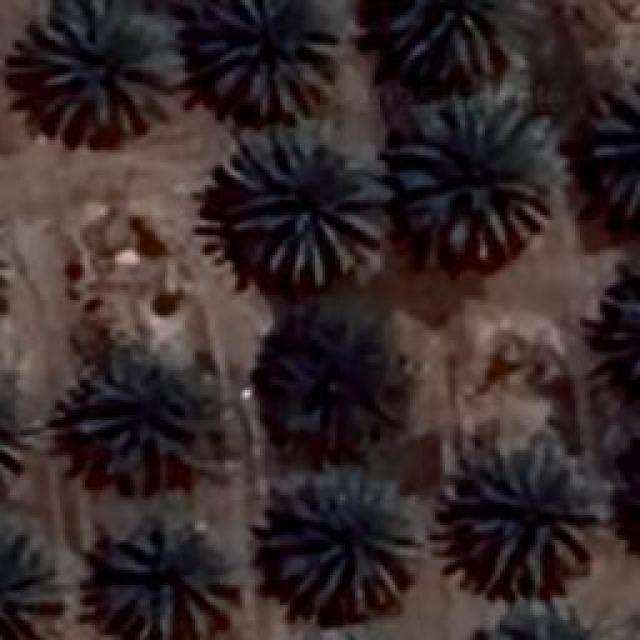PalmTree: (145, 140, 623, 323), (35, 138, 332, 384), (395, 90, 555, 260), (230, 125, 390, 290), (15, 2, 183, 140), (262, 470, 416, 618), (462, 445, 600, 593), (192, 0, 340, 118), (92, 520, 240, 638), (75, 355, 195, 483), (382, 0, 502, 80), (0, 524, 70, 638), (592, 87, 638, 215), (467, 602, 621, 640), (0, 367, 32, 498)
